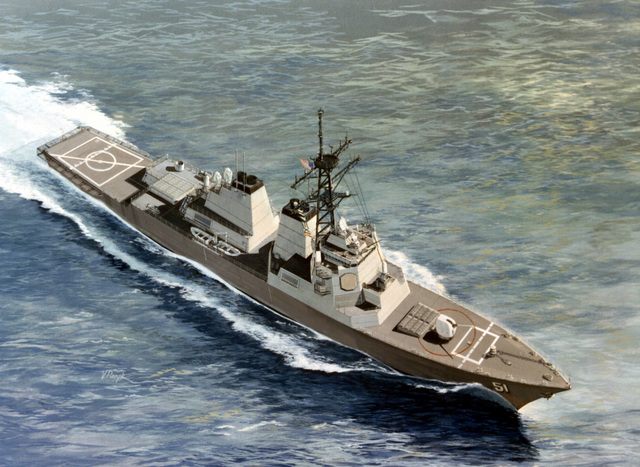ship: (31, 128, 597, 420)
